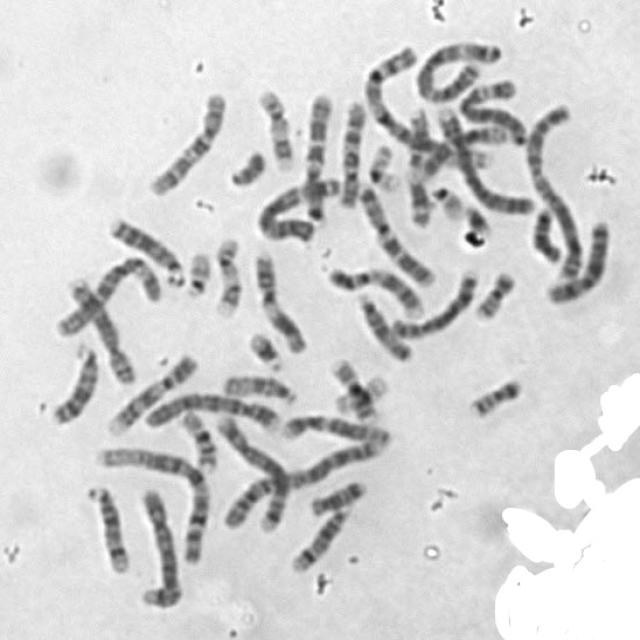A1: (358, 40, 496, 174), (90, 440, 211, 566)
A2: (217, 434, 387, 532), (522, 98, 587, 279)
A3: (251, 170, 343, 243), (410, 33, 501, 104)
B4: (430, 100, 537, 218), (139, 386, 285, 433)
B5: (211, 408, 291, 534), (133, 482, 186, 610)
C10: (143, 85, 230, 198), (333, 94, 368, 209)
C11: (248, 247, 310, 355), (402, 104, 434, 229)
C12: (415, 120, 509, 180), (276, 408, 394, 448)
C6: (50, 250, 164, 339), (452, 72, 530, 146)
C7: (353, 176, 438, 288), (297, 86, 335, 226)
C8: (63, 272, 141, 386), (384, 263, 481, 340)
C9: (103, 348, 201, 437), (321, 259, 429, 320)
D13: (104, 211, 187, 288), (46, 337, 101, 428)
D14: (80, 479, 133, 575), (286, 502, 354, 574)
D15: (353, 287, 417, 364), (217, 367, 300, 406)
E16: (324, 352, 380, 423), (176, 405, 222, 472)
E17: (252, 81, 298, 172), (209, 231, 244, 319)
E18: (305, 474, 370, 518), (527, 200, 566, 266)
F19: (329, 369, 392, 416), (363, 138, 402, 194)
F20: (464, 371, 526, 420), (469, 264, 518, 322)
G21: (243, 325, 286, 373), (458, 197, 494, 239)
G22: (181, 246, 214, 298), (426, 179, 465, 221)
X: (542, 214, 613, 306)
Y: (224, 144, 269, 188)
